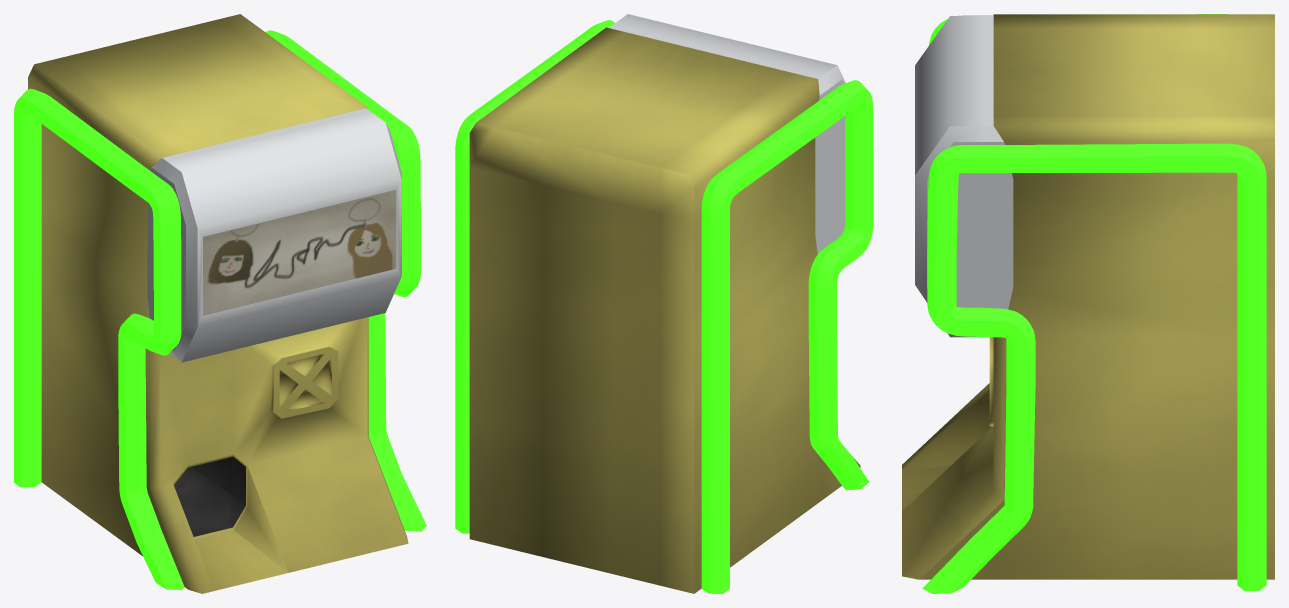
Rendered from Gacha_Machine.fbx.
3 views of the same model, side by side, from view 1: azimuth 30°, elevation 25°; view 2: azimuth 150°, elevation 25°; view 3: azimuth 270°, elevation 25° (orthographic). The views are drawn at different scales.
Parts seen in each view (by area): view 1: Gacha Machine; view 2: Gacha Machine; view 3: Gacha Machine.
Part boxes in pixels (bbox=[...]): Gacha Machine: bbox=[14, 14, 426, 593]; Gacha Machine: bbox=[455, 14, 873, 593]; Gacha Machine: bbox=[902, 14, 1274, 593].
Bounding box in the file's own units: 35.69 × 52.23 × 39.15.
